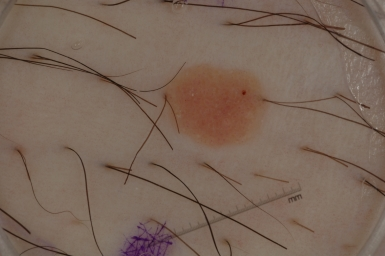seborrheic keratosis: (140, 43, 278, 165)
